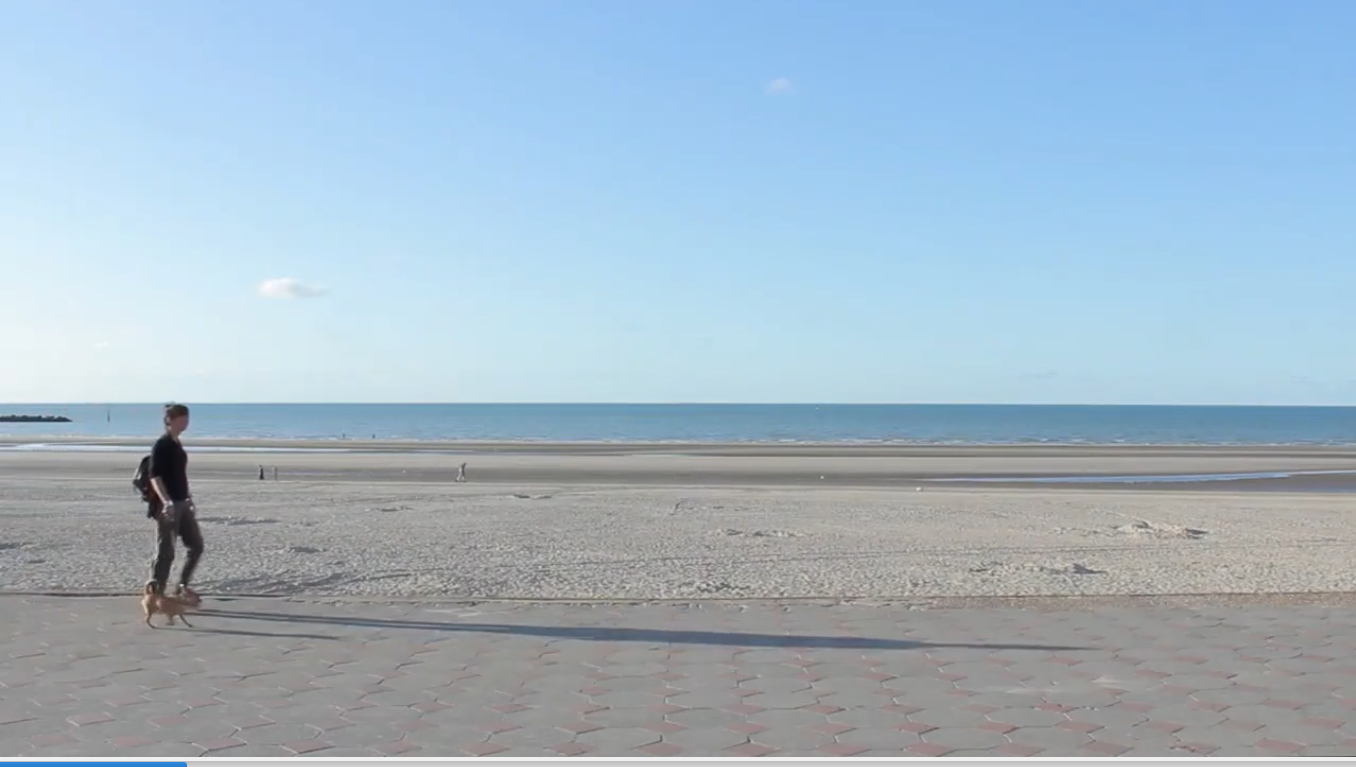padestrian: (123, 401, 213, 636)
